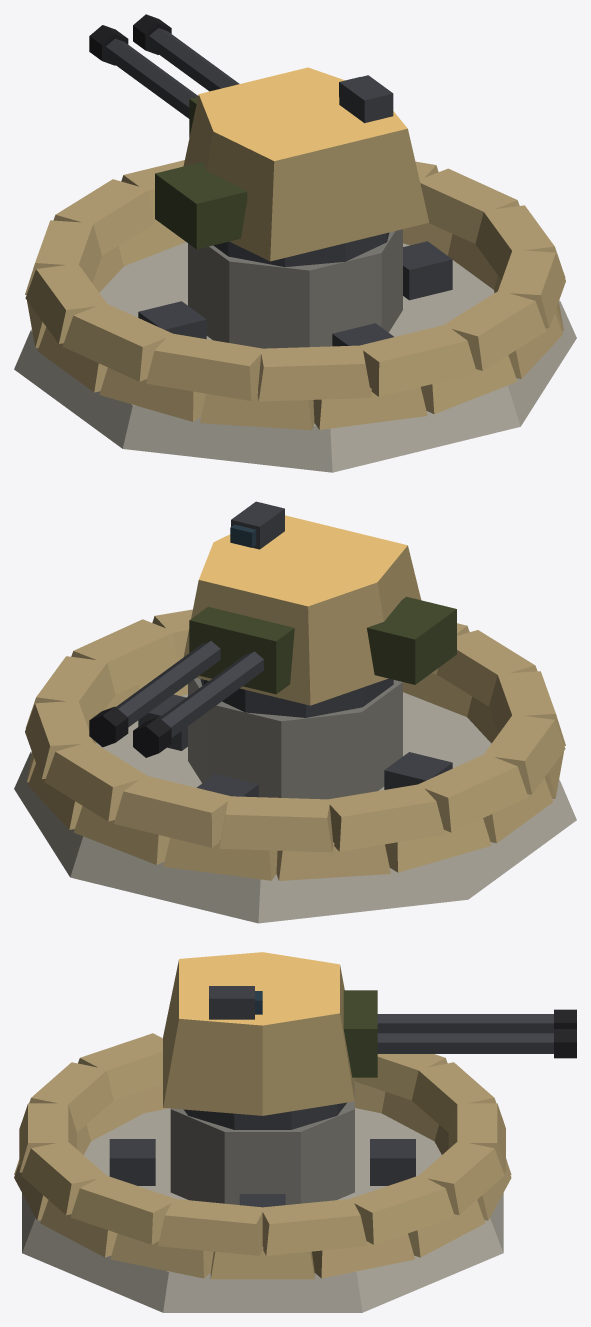
Rendered from defense_turret.glb.
3 renders of one model, top to bottom at view 1: azimuth 30°, elevation 25°; view 2: azimuth 150°, elevation 25°; view 3: azimuth 270°, elevation 25°, orthographic. The views are drawn at different scales.
Parts seen in each view (by area): view 1: defense_turret, Turret; view 2: defense_turret, Turret; view 3: defense_turret, Turret.
Part boxes in pixels (x1,y1,x2,y2): defense_turret: (14, 160, 576, 472); Turret: (89, 14, 429, 267); defense_turret: (14, 609, 576, 923); Turret: (89, 501, 456, 757); defense_turret: (14, 1033, 511, 1312); Turret: (163, 952, 576, 1129).
Bounding box in the file's own units: 1.3 × 0.7 × 1.47.
